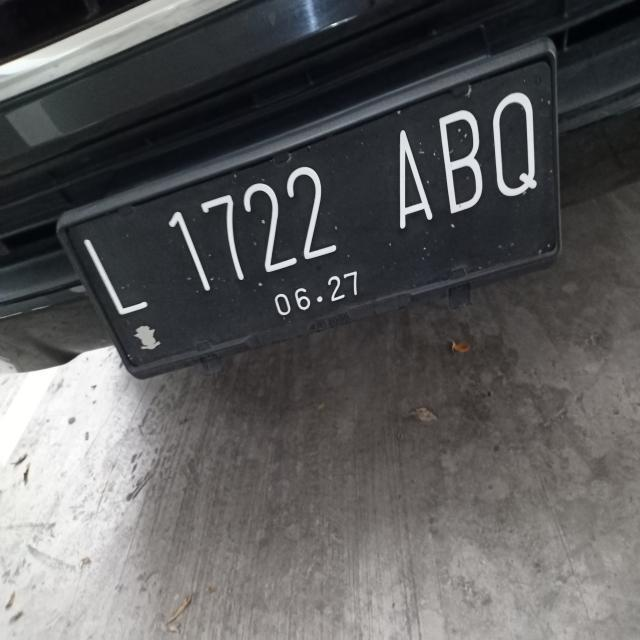1: (154, 205, 218, 315)
2: (282, 161, 350, 270), (240, 178, 294, 292)
7: (202, 196, 252, 294)
A: (383, 122, 436, 248)
B: (434, 107, 489, 215)
L: (76, 241, 160, 325)
Q: (484, 86, 544, 210)
